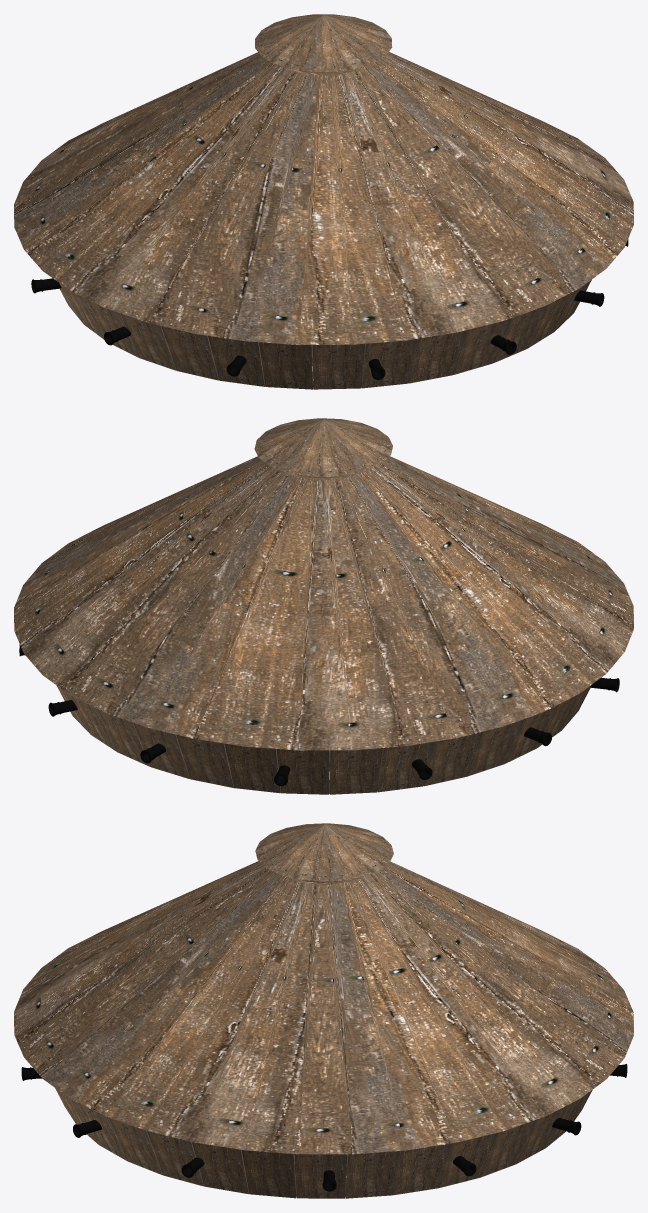
File: teste.glb
The picture shows the model from 3 angles, top to bottom: view 1: azimuth 30°, elevation 25°; view 2: azimuth 150°, elevation 25°; view 3: azimuth 270°, elevation 25°; orthographic projection.
Parts seen in each view (by area): view 1: Cone, Cone_1, Cube_13, Cube_12, Cube_15, Cube_14, Cube_11, Cube_10, Cube_16, Cube_9, Cube_17, Cube_18 (+2 smaller); view 2: Cone, Cone_1, Cube_2, Cube_34, Cube_1, Cube_33, Cube_3, Cube_4, Cube_5, Cube_32, Cube_31, Cube_6 (+2 smaller); view 3: Cone, Cone_1, Cube_25, Cube_23, Cube_26, Cube_24, Cube_22, Cube_21, Cube_27, Cube_28, Cube_20, Cube_29 (+1 smaller).
Boxes of the visible parts, left/top/right/bottom form: Cone: left=14, top=52, right=633, bottom=344; Cone_1: left=255, top=14, right=392, bottom=71; Cube_13: left=312, top=344, right=365, bottom=389; Cube_12: left=259, top=342, right=313, bottom=389; Cube_15: left=409, top=330, right=466, bottom=383; Cube_14: left=361, top=339, right=417, bottom=388; Cube_11: left=208, top=336, right=265, bottom=386; Cube_10: left=161, top=326, right=218, bottom=380; Cube_16: left=453, top=319, right=509, bottom=374; Cube_9: left=120, top=313, right=176, bottom=370; Cube_17: left=493, top=305, right=546, bottom=363; Cube_18: left=527, top=291, right=574, bottom=348; Cone: left=14, top=456, right=633, bottom=750; Cone_1: left=254, top=418, right=392, bottom=477; Cube_2: left=329, top=748, right=382, bottom=794; Cube_34: left=224, top=743, right=280, bottom=793; Cube_1: left=276, top=749, right=329, bottom=794; Cube_33: left=176, top=734, right=233, bottom=787; Cube_3: left=377, top=742, right=434, bottom=792; Cube_4: left=424, top=732, right=481, bottom=786; Cube_5: left=467, top=719, right=523, bottom=776; Cube_32: left=133, top=722, right=189, bottom=778; Cube_31: left=97, top=709, right=150, bottom=766; Cube_6: left=505, top=705, right=556, bottom=763; Cone: left=14, top=861, right=633, bottom=1154; Cone_1: left=255, top=823, right=393, bottom=881; Cube_25: left=345, top=1151, right=400, bottom=1198; Cube_23: left=241, top=1150, right=296, bottom=1198; Cube_26: left=393, top=1143, right=450, bottom=1195; Cube_24: left=294, top=1154, right=347, bottom=1198; Cube_22: left=192, top=1142, right=248, bottom=1194; Cube_21: left=147, top=1131, right=203, bottom=1186; Cube_27: left=438, top=1133, right=496, bottom=1187; Cube_28: left=480, top=1120, right=535, bottom=1177; Cube_20: left=108, top=1117, right=162, bottom=1175; Cube_29: left=516, top=1106, right=566, bottom=1163.
Bounding box in the file's own units: 2.35 × 1.11 × 2.35.
4 materials, 3 textured.
